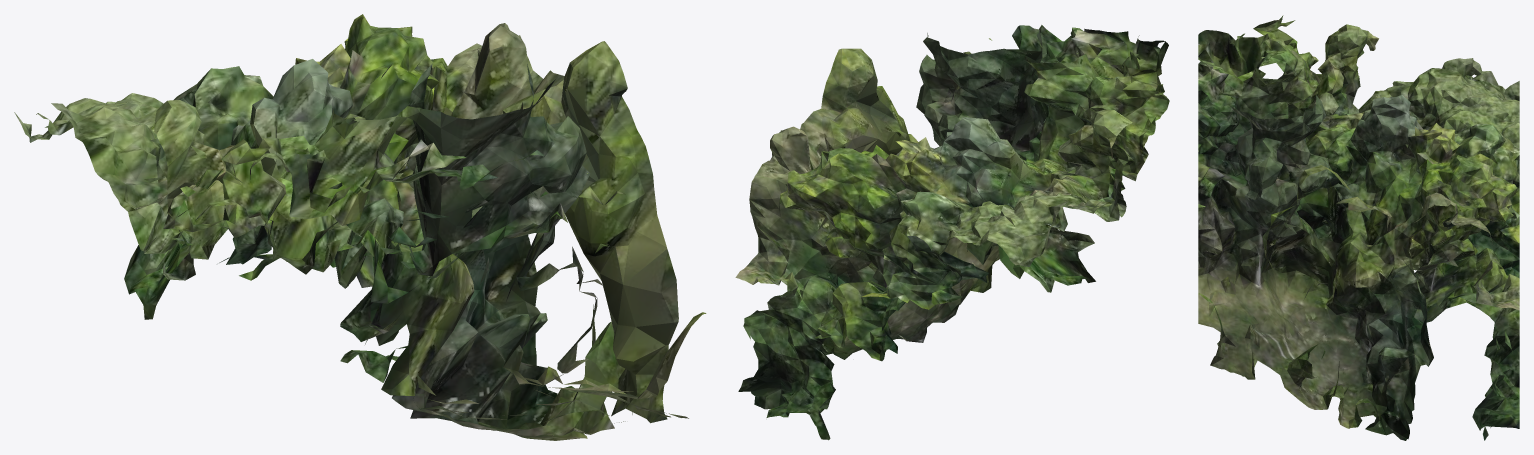
3 views of the same model, side by side, from view 1: azimuth 30°, elevation 25°; view 2: azimuth 150°, elevation 25°; view 3: azimuth 270°, elevation 25° (orthographic). The views are drawn at different scales.
Bounding box in the file's own units: 26.11 × 26.11 × 26.11.
10 materials, 10 textured.
